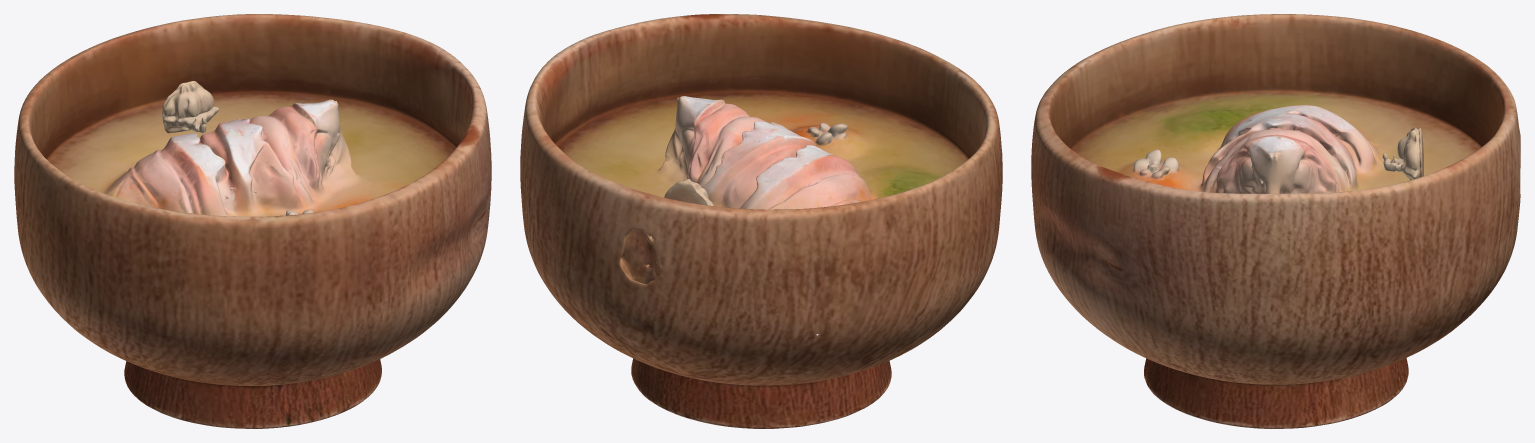
File: miso.glb
3 views of the same model, side by side, from view 1: azimuth 30°, elevation 25°; view 2: azimuth 150°, elevation 25°; view 3: azimuth 270°, elevation 25° (orthographic). The views are drawn at different scales.
Parts seen in each view (by area): view 1: tripo_node_eaddd2d7-20f6-44a1-b0a6-35b34fbdab7b; view 2: tripo_node_eaddd2d7-20f6-44a1-b0a6-35b34fbdab7b; view 3: tripo_node_eaddd2d7-20f6-44a1-b0a6-35b34fbdab7b.
Boxes of the visible parts, x1,y1,x2,y2 form: tripo_node_eaddd2d7-20f6-44a1-b0a6-35b34fbdab7b: (14,14,491,428); tripo_node_eaddd2d7-20f6-44a1-b0a6-35b34fbdab7b: (520,14,1002,428); tripo_node_eaddd2d7-20f6-44a1-b0a6-35b34fbdab7b: (1031,14,1520,428).
Bounding box in the file's own units: 0.9805 × 0.6192 × 0.9772.
Materials: 1 (1 with a texture image).
